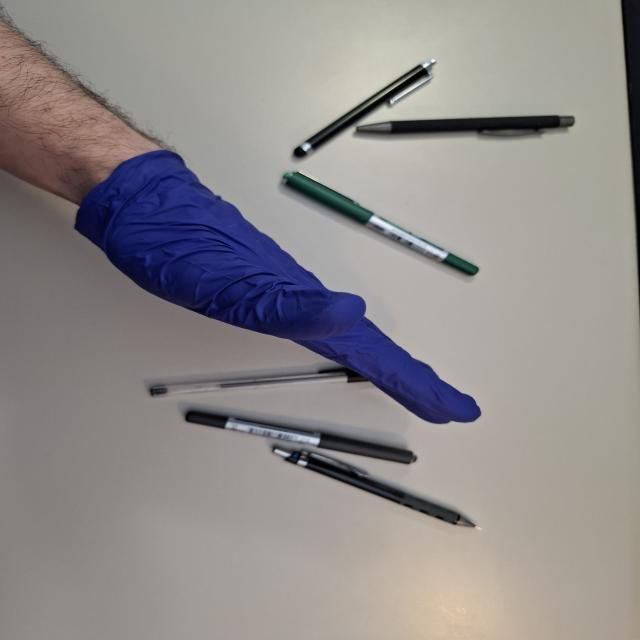glove_on: (62, 146, 486, 427)
